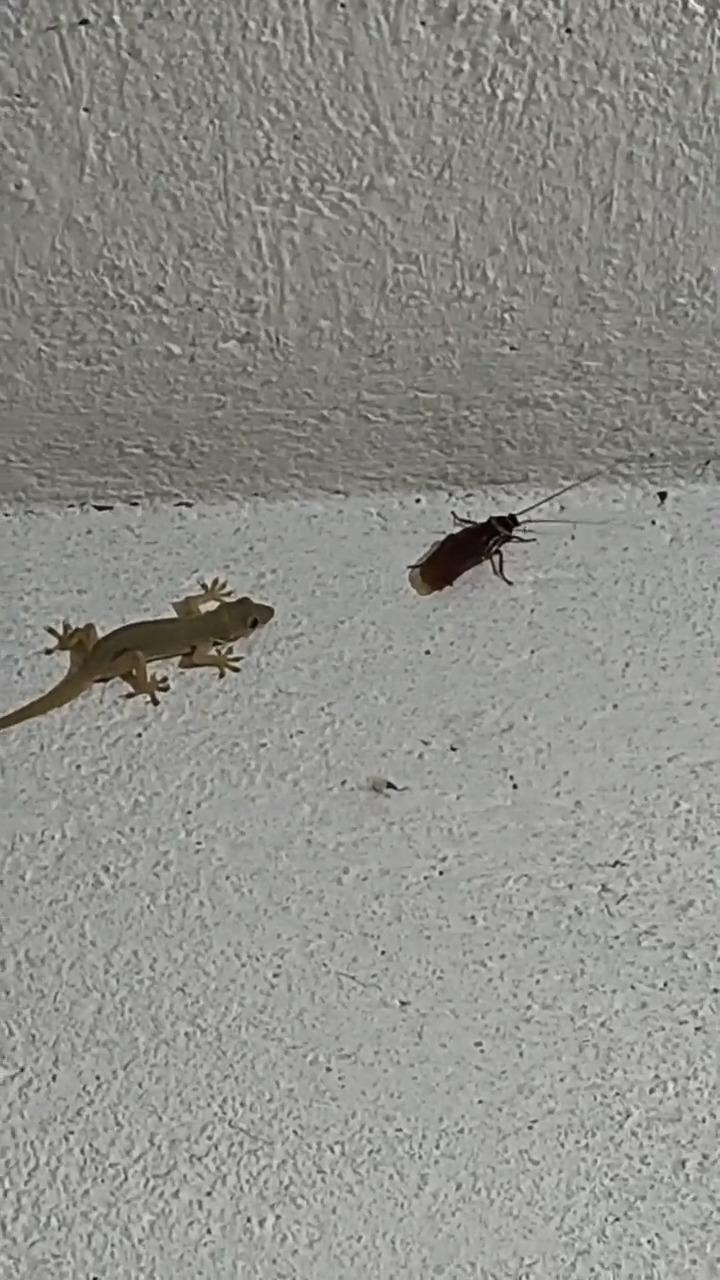cockroach: (386, 491, 589, 604)
lizard: (0, 558, 305, 744)
